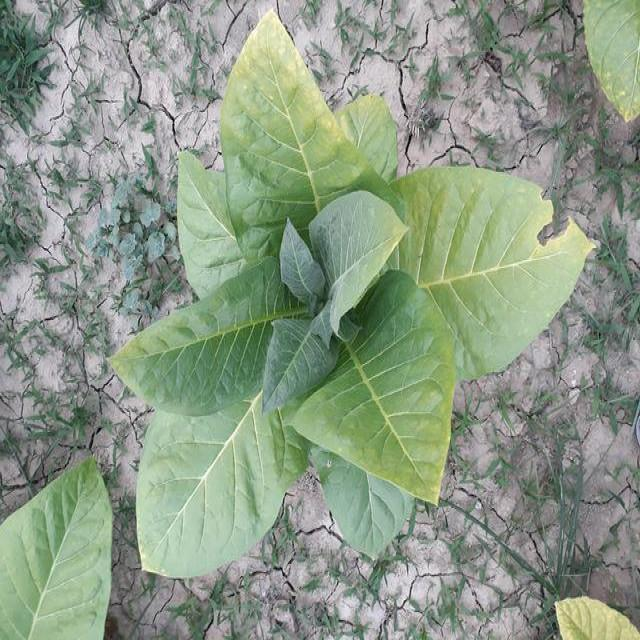crop: (142, 3, 586, 561), (0, 457, 108, 640)
